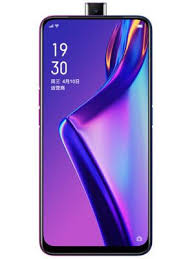oppo: (35, 14, 159, 259)
